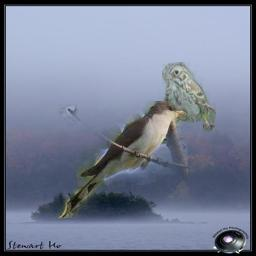Cuckoo: (58, 101, 188, 218)
Sparrow: (162, 62, 216, 132)
